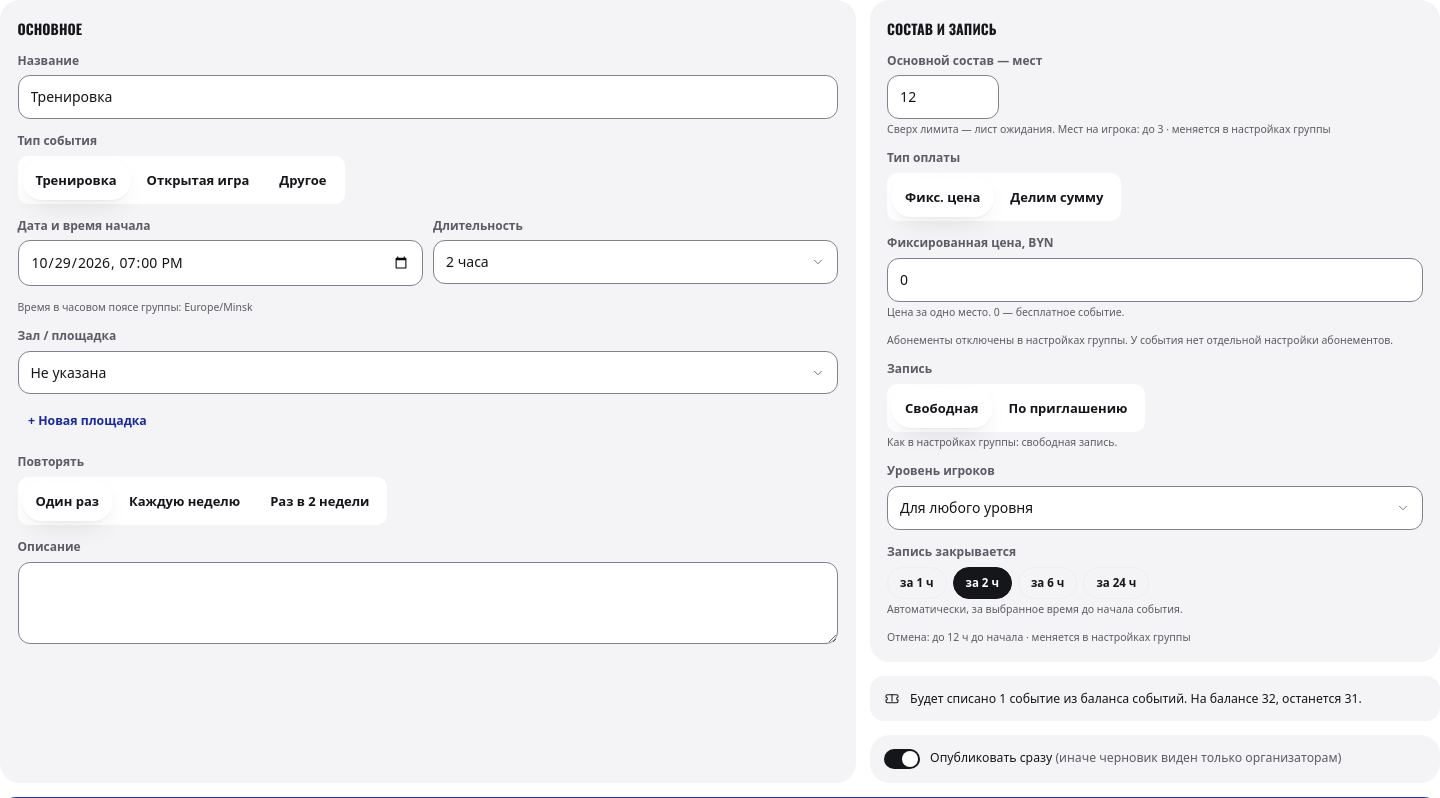
create a single event › shows the split forecast per seat at a full roster from the shared price quote
The width and height of the screenshot is (1440, 798).
Replace the text in the field with id "ev-start" with "2030-06-08T19:00" at (220, 263), box 18,240 -> 422,286
Wait 400 ms
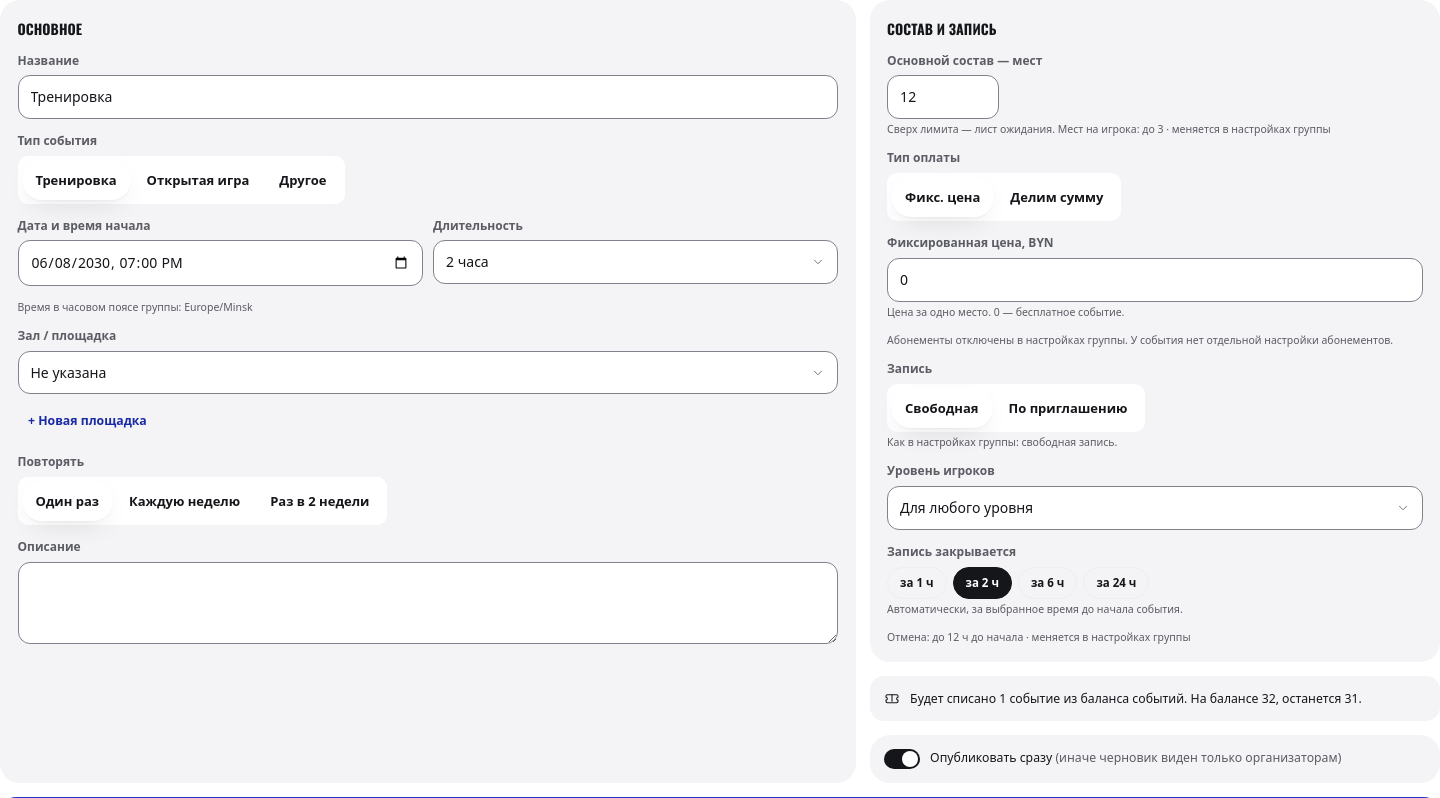
Click the radio button labelled "Делим сумму".
click(1057, 197)  # box 996,177 -> 1117,217
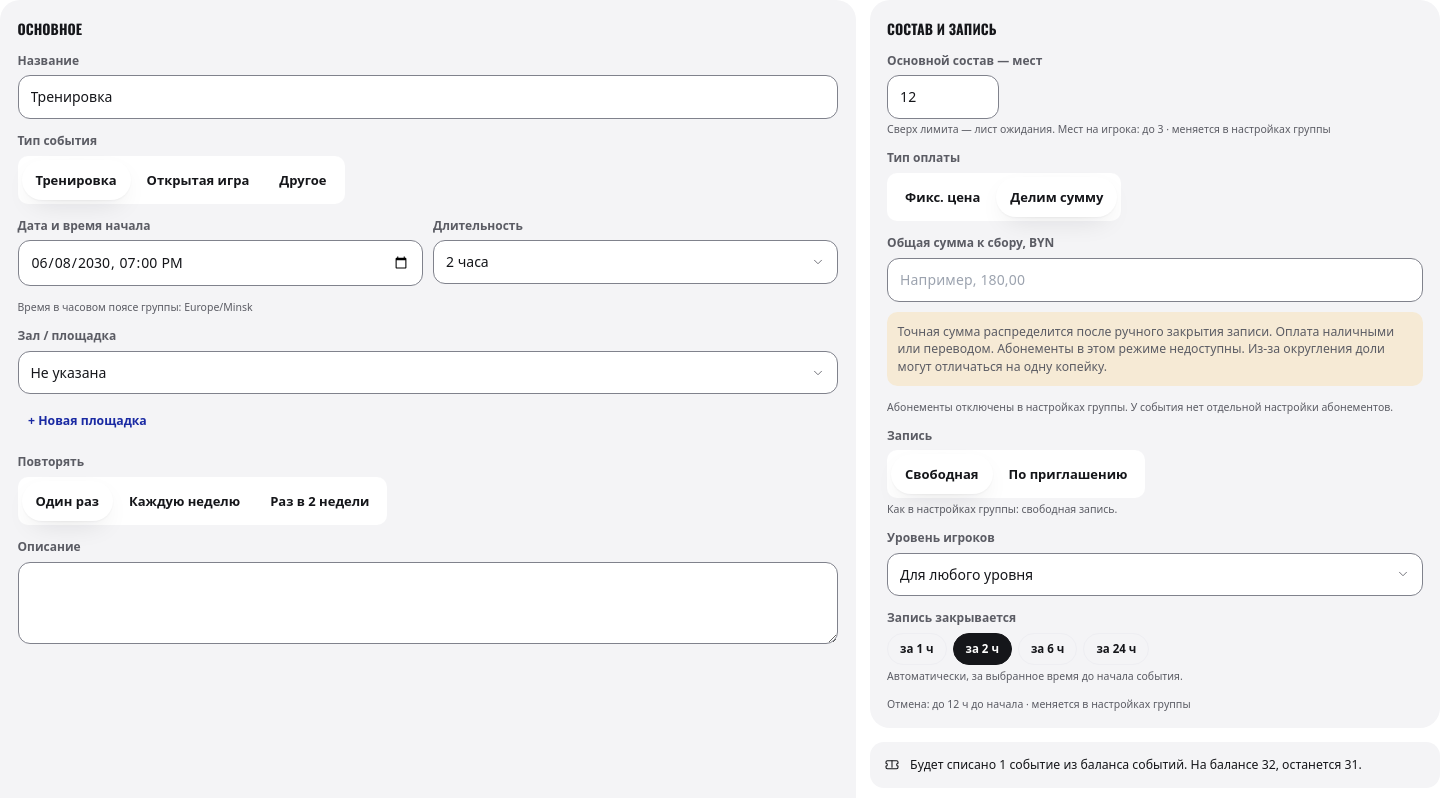
Replace the text in the number field with id "ev-cap" with "14" at (943, 97), box 887,75 -> 999,119
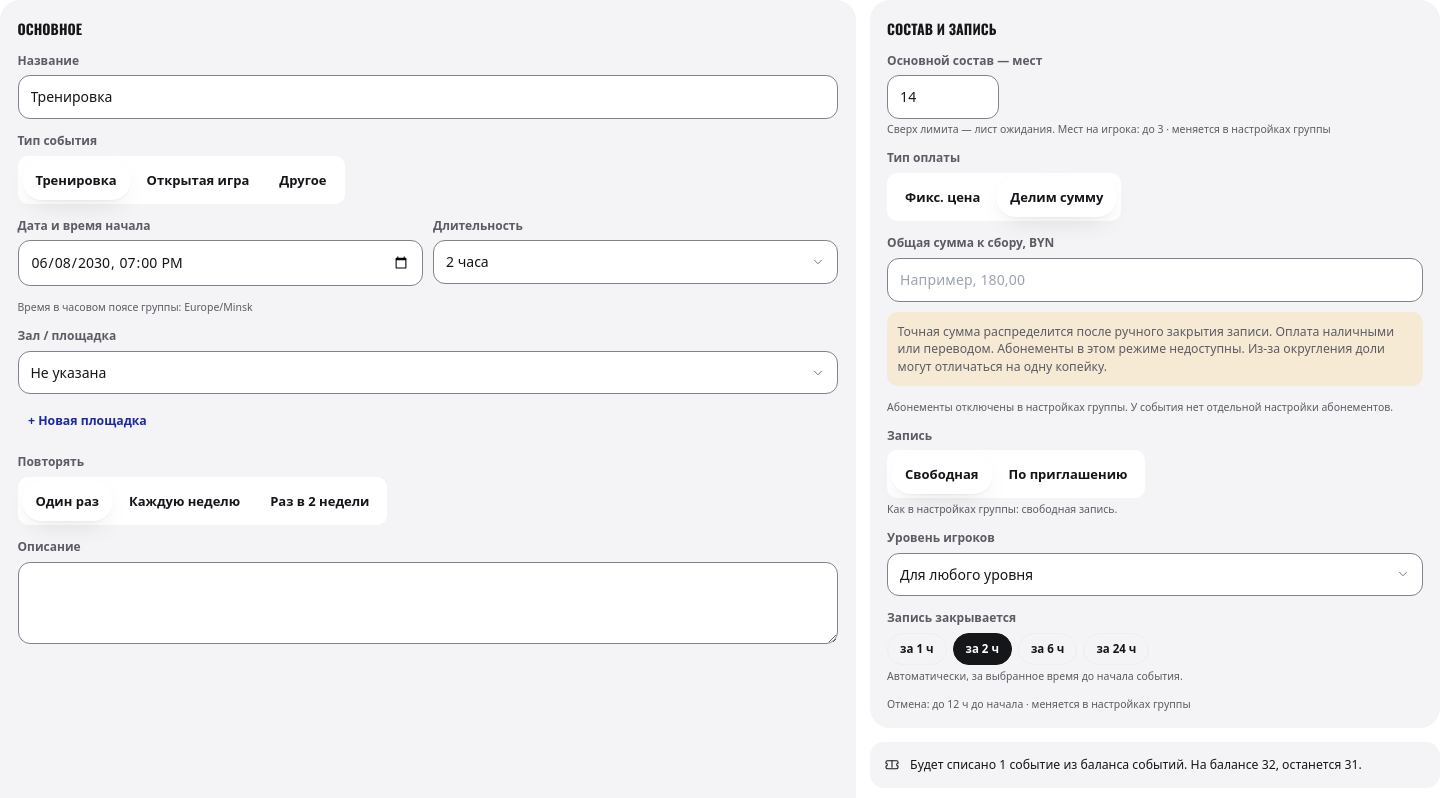
Type "180" into the field with id "ev-target".
click(1155, 280); type("180")  # box 887,258 -> 1422,302
Wait 400 ms
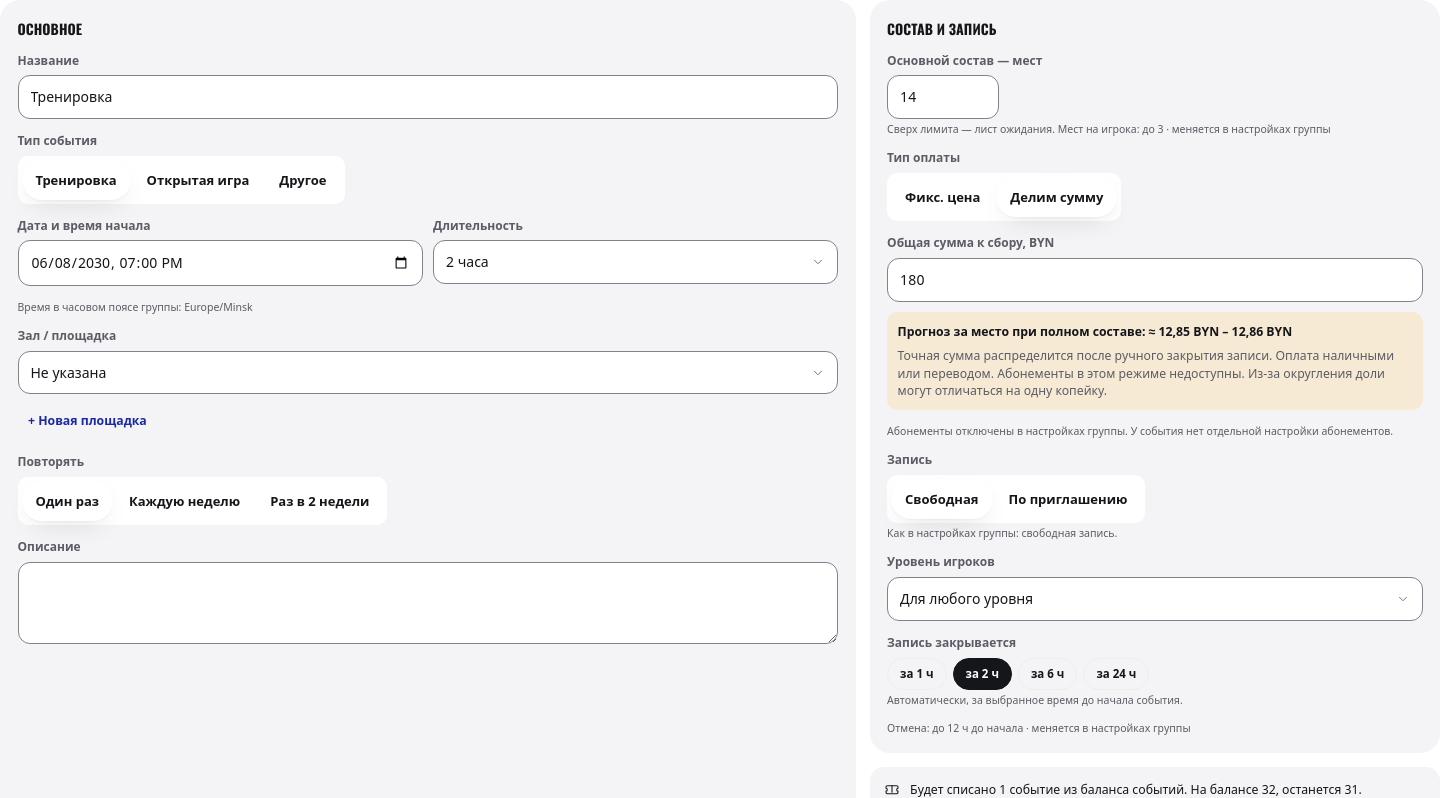
expect the element with id "ev-split-hint" shows "Прогноз за место при полном составе": met, box 898,323 -> 1219,340
